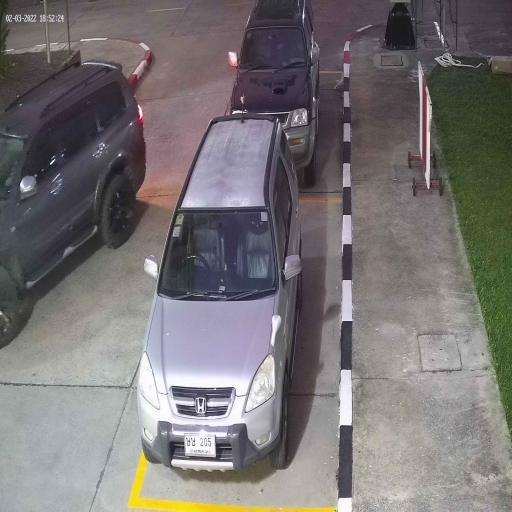car: (137, 114, 302, 473), (0, 62, 147, 350), (230, 0, 320, 189)
